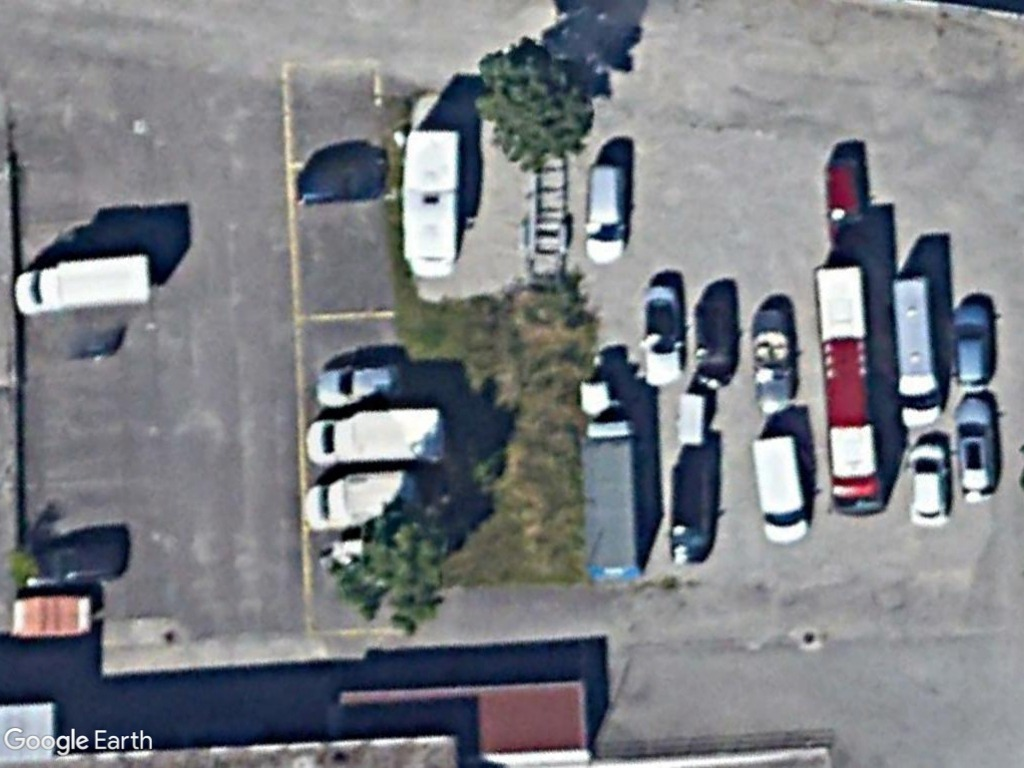bus: (809, 262, 890, 517)
car: (952, 391, 1004, 503), (583, 158, 627, 266), (906, 438, 954, 530), (949, 298, 996, 391)
van: (11, 248, 154, 318), (303, 402, 448, 470), (886, 272, 945, 427), (748, 434, 812, 547)
